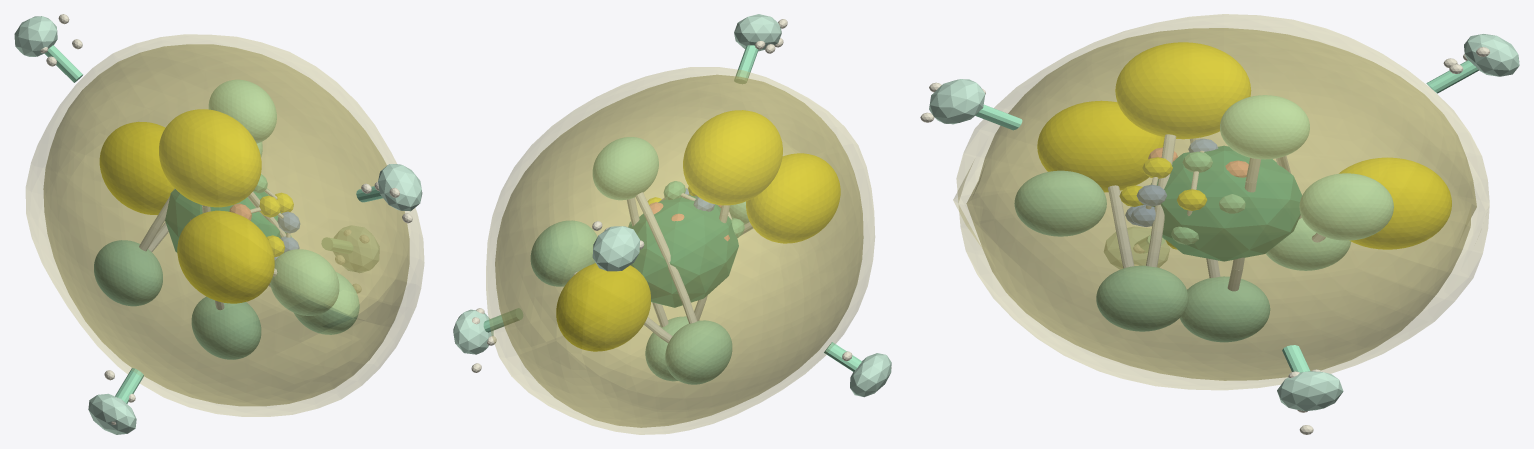
File: mutante_virus_ficticio_e_8280297.glb
The picture shows the model from 3 angles, left to right: view 1: azimuth 30°, elevation 25°; view 2: azimuth 150°, elevation 25°; view 3: azimuth 270°, elevation 25°; orthographic projection. The views are drawn at different scales.
Visible parts, largest first — view 1: geometry_0, geometry_1, geometry_99, geometry_97, geometry_104, geometry_96, geometry_102, geometry_100, geometry_101, geometry_158, geometry_170, geometry_152 (+3 smaller); view 2: geometry_0, geometry_1, geometry_2, geometry_99, geometry_104, geometry_97, geometry_102, geometry_101, geometry_103, geometry_152, geometry_158, geometry_170 (+2 smaller); view 3: geometry_0, geometry_1, geometry_2, geometry_99, geometry_97, geometry_104, geometry_103, geometry_98, geometry_96, geometry_101, geometry_100, geometry_152 (+4 smaller).
Part boxes in pixels (box(x1,y1,x2,y2)): geometry_0: box(26, 34, 424, 416); geometry_1: box(43, 44, 409, 406); geometry_99: box(159, 109, 261, 207); geometry_97: box(177, 210, 274, 303); geometry_104: box(99, 122, 174, 214); geometry_96: box(270, 249, 339, 315); geometry_102: box(94, 240, 162, 306); geometry_100: box(191, 296, 261, 359); geometry_101: box(208, 79, 276, 143); geometry_158: box(88, 368, 143, 434); geometry_170: box(14, 16, 82, 82); geometry_152: box(356, 164, 422, 211); geometry_0: box(486, 67, 874, 434); geometry_1: box(495, 74, 863, 427); geometry_2: box(629, 195, 738, 307); geometry_99: box(683, 110, 782, 205); geometry_104: box(556, 263, 650, 351); geometry_97: box(746, 153, 840, 243); geometry_102: box(665, 320, 732, 384); geometry_101: box(592, 137, 658, 200); geometry_103: box(530, 220, 597, 286); geometry_152: box(734, 14, 781, 83); geometry_158: box(824, 342, 891, 397); geometry_170: box(592, 226, 639, 271); geometry_0: box(953, 14, 1489, 389); geometry_1: box(966, 28, 1476, 380); geometry_2: box(1151, 145, 1301, 261); geometry_99: box(1115, 42, 1251, 139); geometry_97: box(1037, 100, 1164, 192); geometry_104: box(1339, 157, 1451, 249); geometry_103: box(1299, 173, 1393, 240); geometry_98: box(1096, 265, 1188, 331); geometry_96: box(1014, 170, 1106, 236); geometry_101: box(1220, 95, 1309, 159); geometry_100: box(1180, 276, 1270, 342); geometry_152: box(929, 79, 1022, 130).
Size of the model in its own units: 12.72 by 11 by 17.51.
